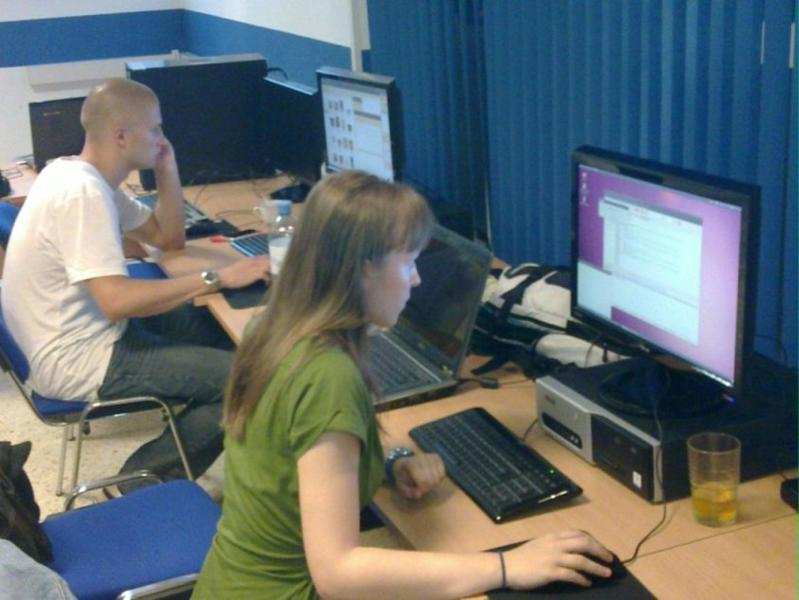person: (191, 171, 618, 600)
